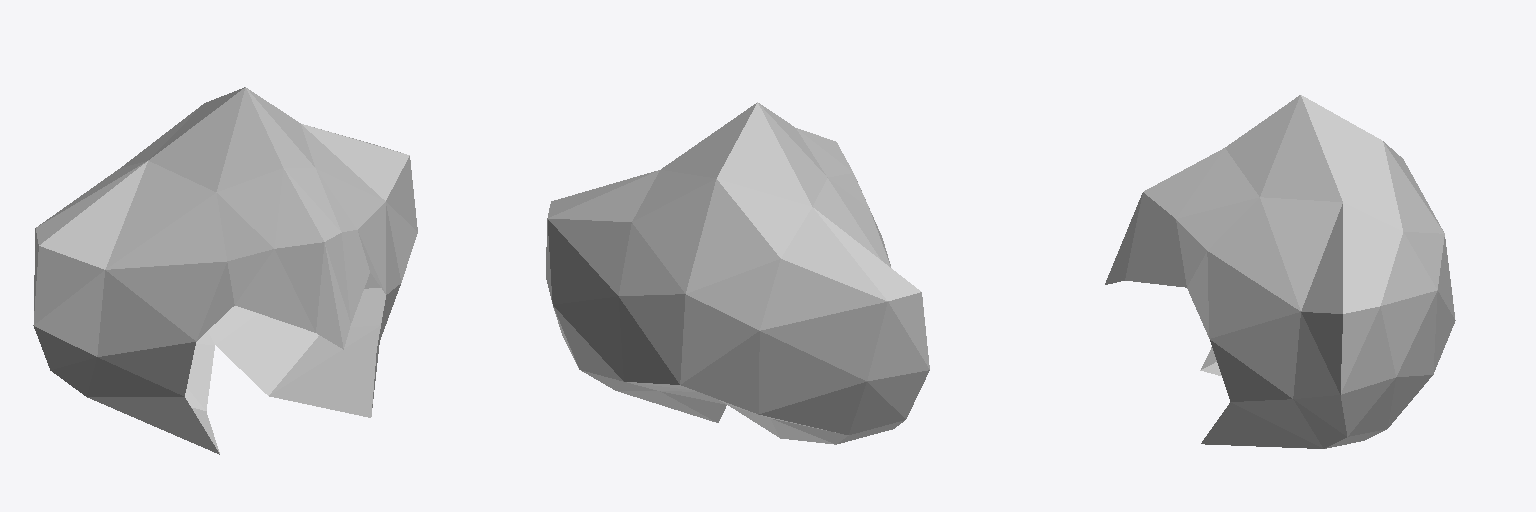
Rendered from pennywise_hair.obj.
3 renders of one model, left to right at view 1: azimuth 30°, elevation 25°; view 2: azimuth 150°, elevation 25°; view 3: azimuth 270°, elevation 25°, orthographic.
Visible parts, largest first — view 1: body.001_Mesh; view 2: body.001_Mesh; view 3: body.001_Mesh.
Boxes of the visible parts, box(x1,y1,x2,y2) form: body.001_Mesh: box(33, 87, 417, 454); body.001_Mesh: box(546, 102, 929, 444); body.001_Mesh: box(1105, 95, 1455, 448).
Bounding box in the file's own units: 0.6825 × 0.5475 × 0.5399.